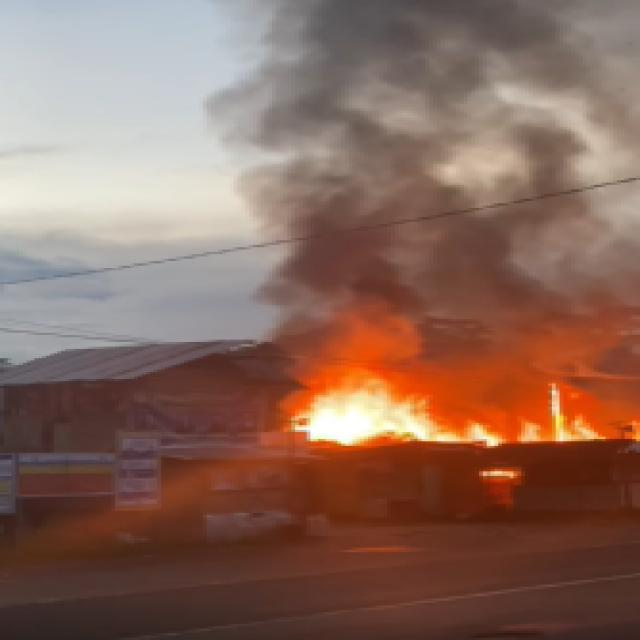Fire: (300, 332, 608, 454)
Smoke: (220, 0, 640, 373)
